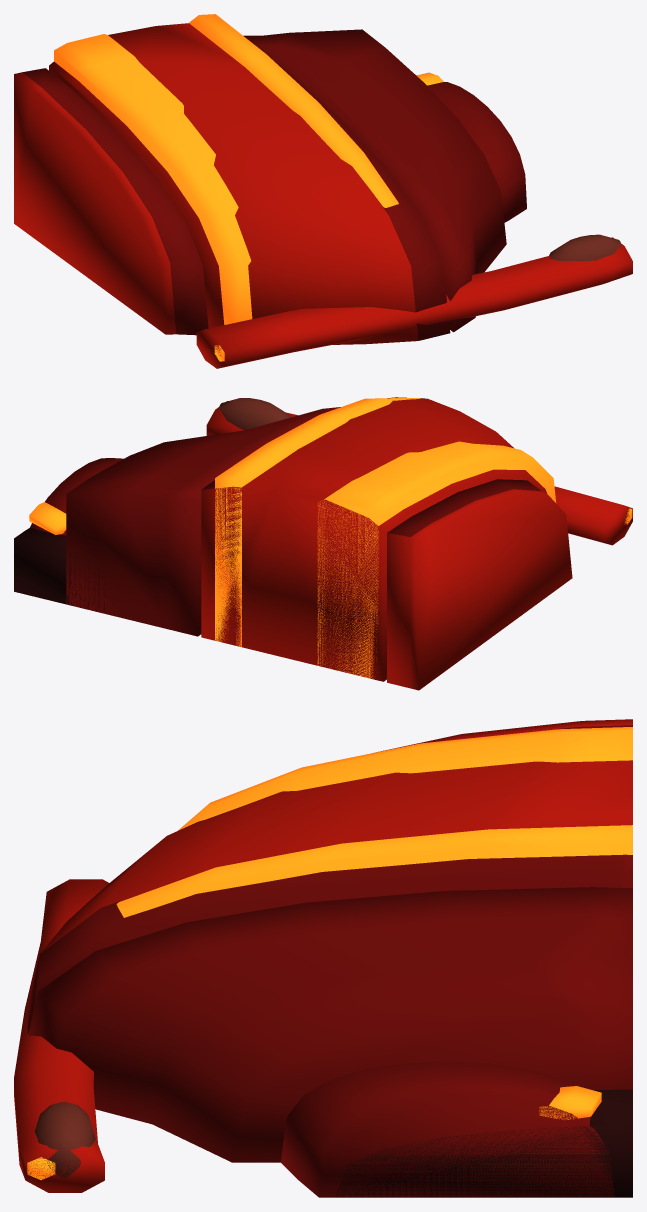
File: newshe-127.glb
3 renders of one model, top to bottom at view 1: azimuth 30°, elevation 25°; view 2: azimuth 150°, elevation 25°; view 3: azimuth 270°, elevation 25°, orthographic. The views are drawn at different scales.
Visible parts, largest first — view 1: newshe-127; view 2: newshe-127; view 3: newshe-127.
Boxes of the visible parts, box(x1,y1,x2,y2) form: newshe-127: box(14, 14, 632, 368); newshe-127: box(14, 397, 632, 690); newshe-127: box(14, 719, 632, 1197).
Size of the model in its own units: 2 by 0.8018 by 1.93.
